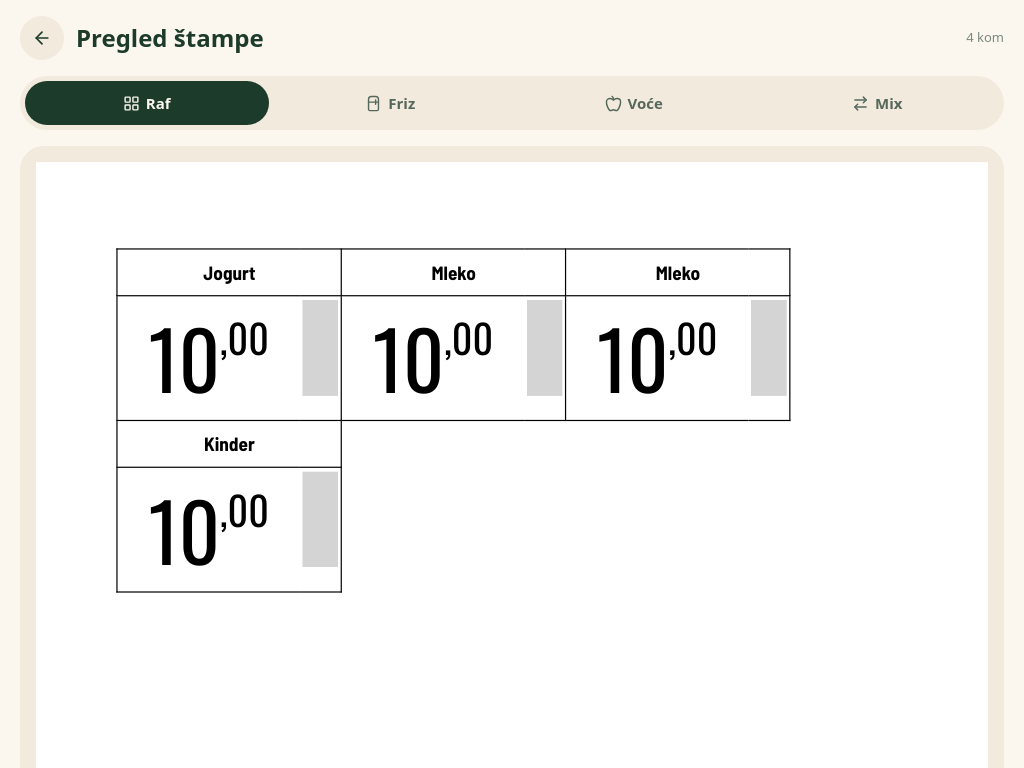
Test: PrintPreview in Mix › sends a single sheet the usual way when everything is on the shelf
Step 1. Click the button "Mix" → (877, 103), box 756,81 -> 999,125
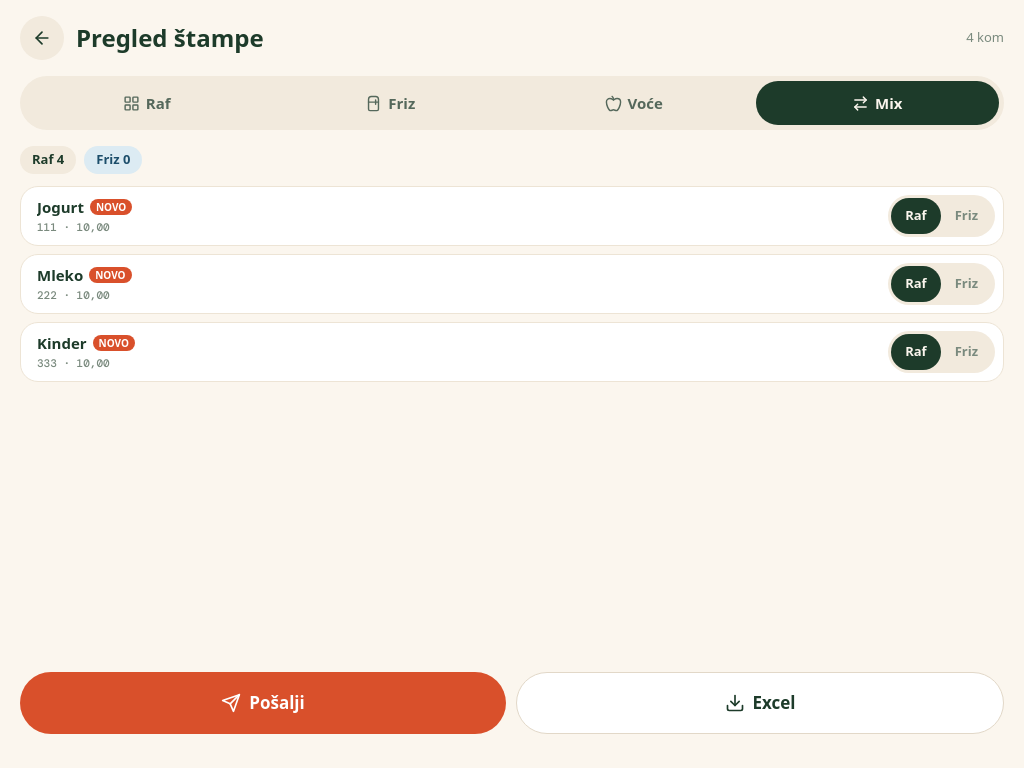
Now the text "Friz 0" is shown, box 84,146 -> 142,174
Step 2. Click the button "Pošalji" → (263, 703), box 20,672 -> 506,734
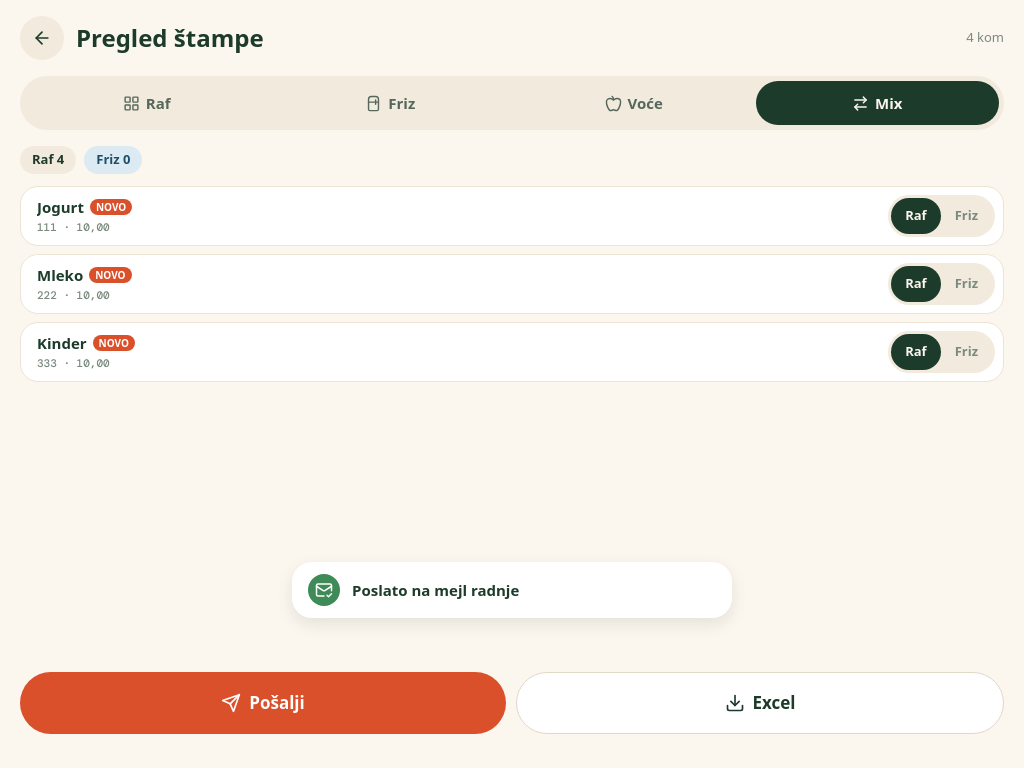
Now the text "Poslato na mejl radnje" is shown, box 352,580 -> 519,600
